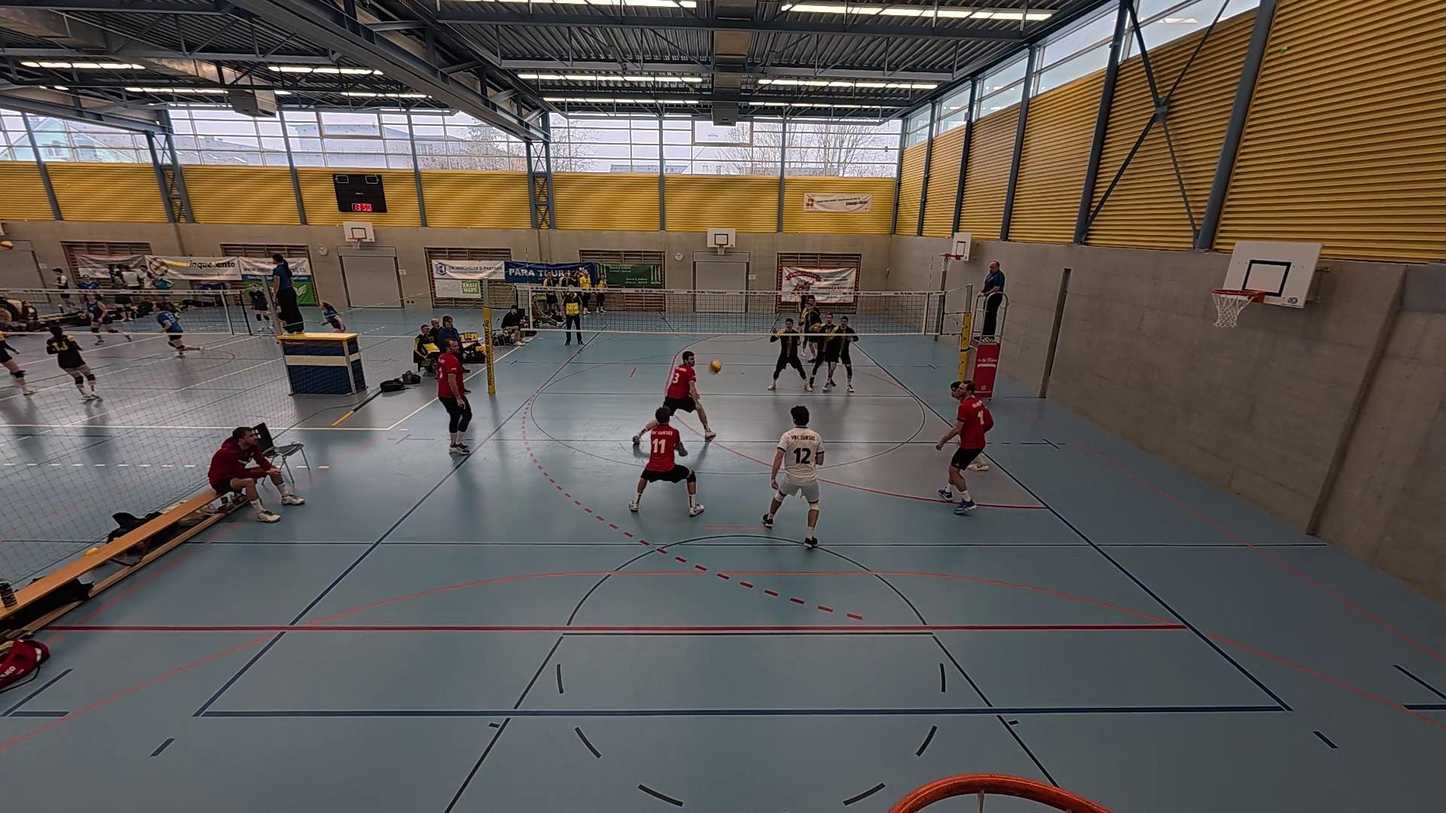Player: (763, 405, 825, 547), (630, 403, 704, 516), (936, 380, 993, 513), (434, 334, 474, 452), (666, 351, 717, 441), (767, 318, 812, 390), (821, 316, 859, 392), (808, 313, 839, 392), (800, 307, 826, 368)
ball: (706, 358, 722, 373)
